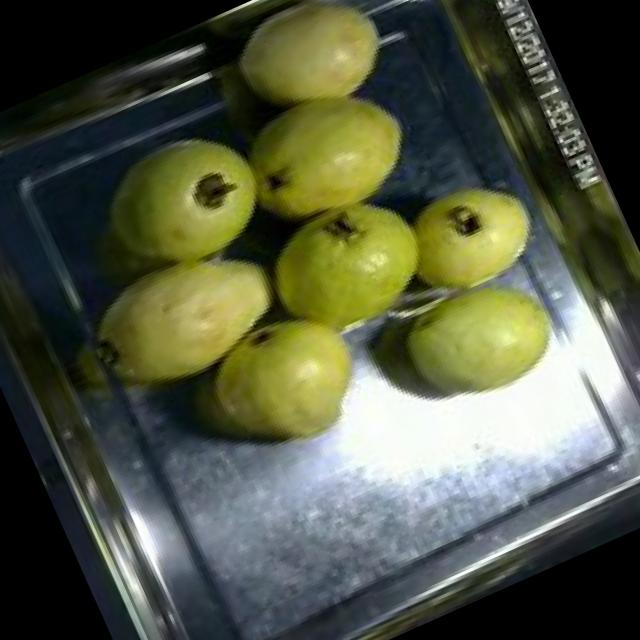Fruit: (70, 212, 311, 420), (170, 279, 394, 489), (237, 178, 458, 374), (210, 61, 432, 246), (82, 103, 291, 299), (378, 255, 586, 437), (376, 155, 563, 323), (207, 0, 409, 147)
